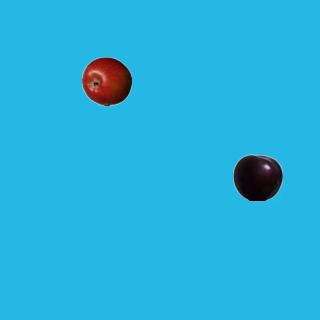Apple Braeburn: (81, 56, 131, 106)
Cherry Wax Black: (232, 152, 282, 202)
